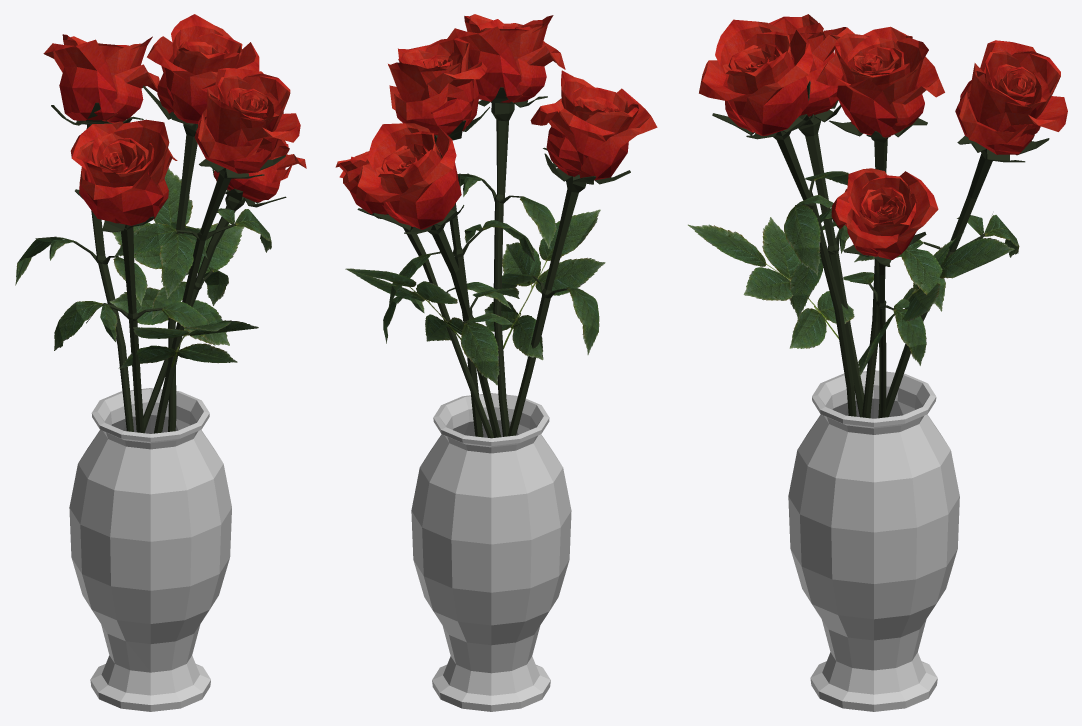
File: roses.obj
3 renders of one model, left to right at view 1: azimuth 30°, elevation 25°; view 2: azimuth 150°, elevation 25°; view 3: azimuth 270°, elevation 25°, orthographic. The views are drawn at different scales.
Visible parts, largest first — view 1: Jar, rose.001, rose.004, rose.002, rose, Leaves.004, stem.004, Leaves.001, stem.001, leaves.006, stem.002, stem (+6 smaller); view 2: Jar, rose.002, rose.001, rose, rose.004, Leaves.001, stem.004, stem.001, Leaves.004, leaves.001, stem.002, stem (+6 smaller); view 3: Jar, rose.004, rose, rose.002, rose.003, Leaves.001, stem.004, Leaves.004, stem.001, rose.001, stem.002, leaves.004 (+6 smaller).
Part boxes in pixels (x1,y1,x2,y2): Jar: (69,388,231,711); rose.001: (70,119,177,225); rose.004: (194,68,300,173); rose.002: (43,34,159,122); rose: (147,14,259,123); Leaves.004: (109,168,244,345); stem.004: (154,155,285,433); Leaves.001: (118,320,258,368); stem.001: (75,189,162,433); leaves.006: (54,301,215,350); stem.002: (35,102,143,431); stem: (142,85,197,431); Jar: (411,393,571,711); rose.002: (356,123,461,229); rose.001: (530,70,657,180); rose: (388,37,487,135); rose.004: (447,14,565,102); Leaves.001: (484,209,605,360); stem.004: (457,87,547,436); stem.001: (507,147,630,436); Leaves.004: (345,268,464,341); leaves.001: (460,288,519,385); stem.002: (373,173,501,437); stem: (430,107,489,437); Jar: (788,370,959,711); rose.004: (699,19,813,136); rose: (816,26,944,138); rose.002: (955,40,1067,154); rose.003: (831,168,938,259); Leaves.001: (688,217,854,348); stem.004: (712,81,856,416); Leaves.004: (858,232,1014,375); stem.001: (798,100,864,417); rose.001: (769,14,854,116); stem.002: (885,136,1049,417); leaves.004: (784,171,848,275).
Size of the model in its own units: 22.78 by 52.94 by 27.28.
